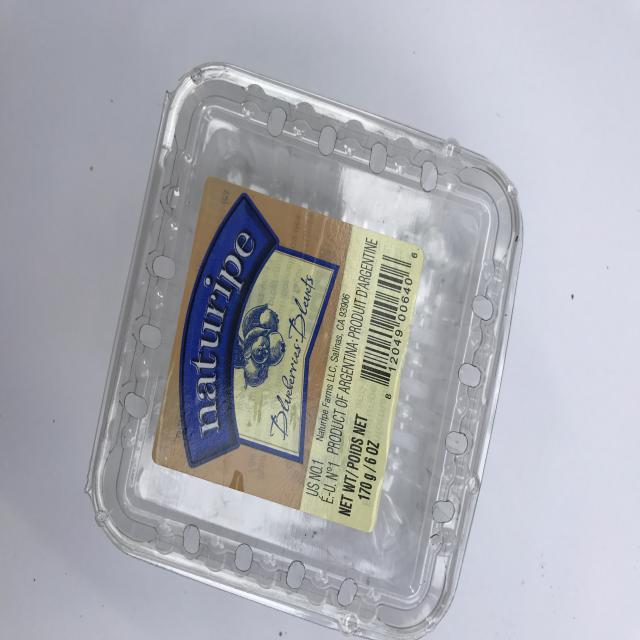plastic: (85, 56, 528, 640)
